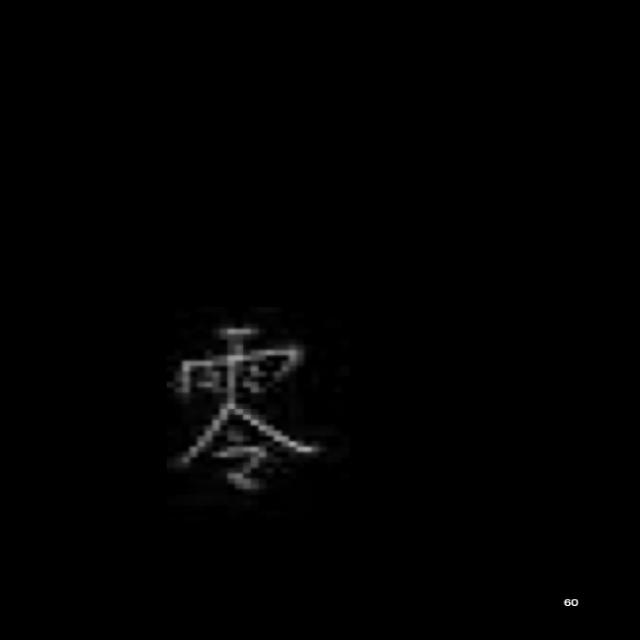0 -zero-: (161, 317, 328, 492)
